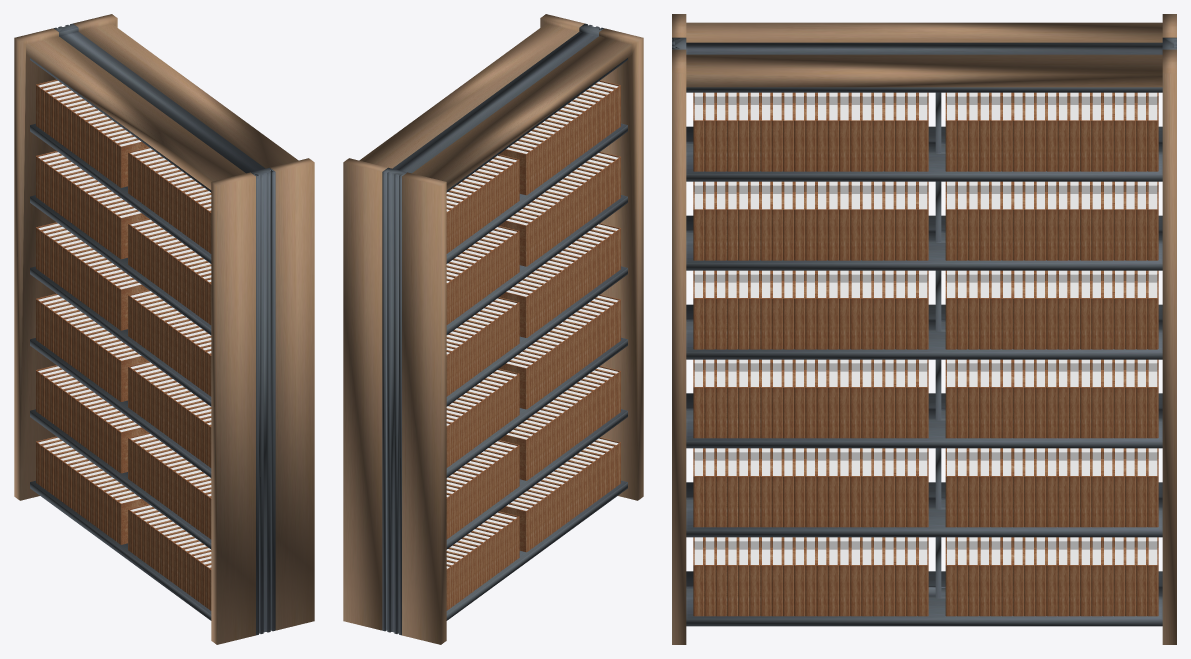
Rendered from book2.obj.
3 renders of one model, left to right at view 1: azimuth 30°, elevation 25°; view 2: azimuth 150°, elevation 25°; view 3: azimuth 270°, elevation 25°, orthographic. The views are drawn at different scales.
Visible parts, largest first — view 1: 3dSolid; view 2: 3dSolid; view 3: 3dSolid.
Part boxes in pixels (x1,y1,x2,y2): 3dSolid: [14, 14, 314, 644]; 3dSolid: [343, 14, 643, 644]; 3dSolid: [672, 14, 1176, 644].
Bounding box in the file's own units: 50 × 225 × 180.
